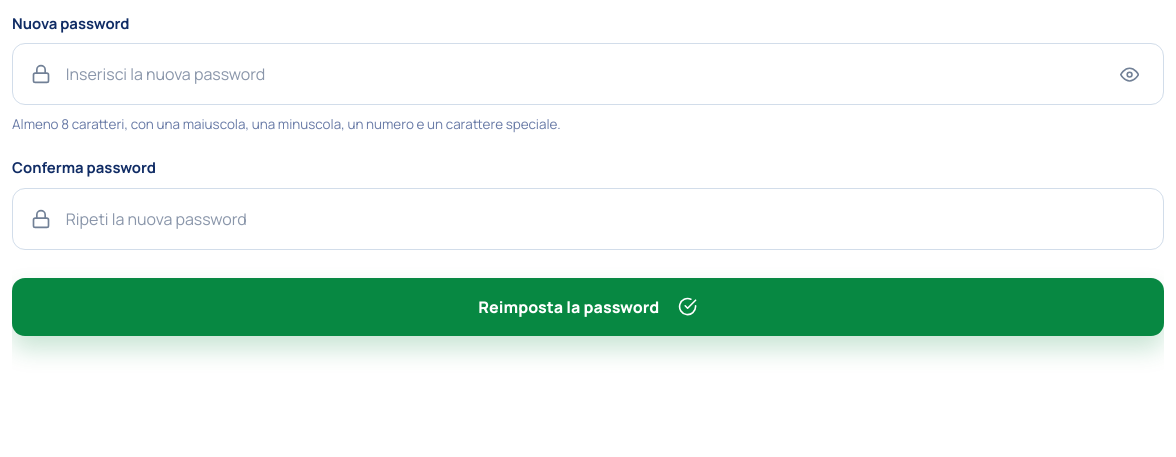
Test: ResetPasswordForm › errori del server › tratta un 400 con validationErrors come password rifiutata
Type "Password1!" into the password field labelled "Nuova password".
click(583, 74); type("Password1!")  # box [66,62,1100,86]
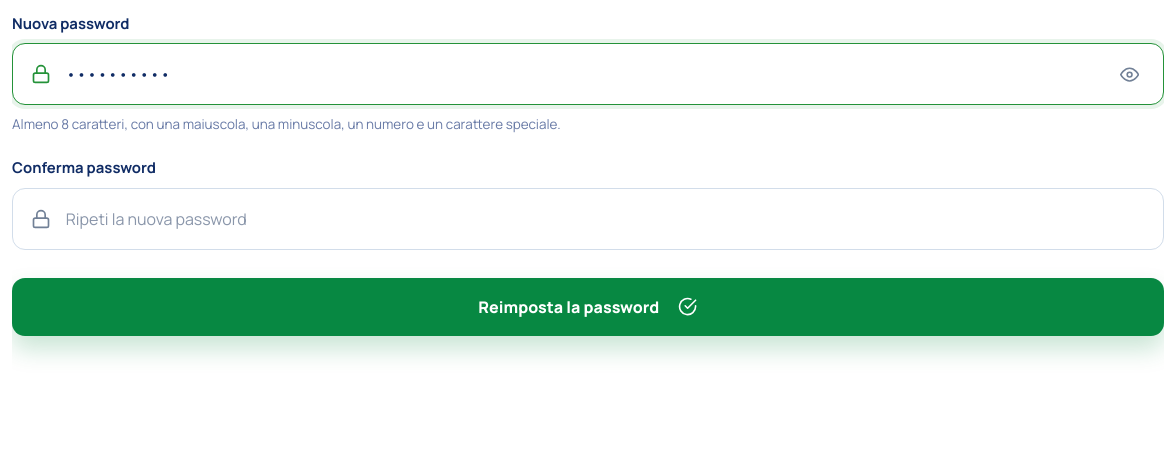
Type "Password1!" into the password field labelled "Conferma password".
click(605, 219); type("Password1!")  # box [66,207,1145,231]
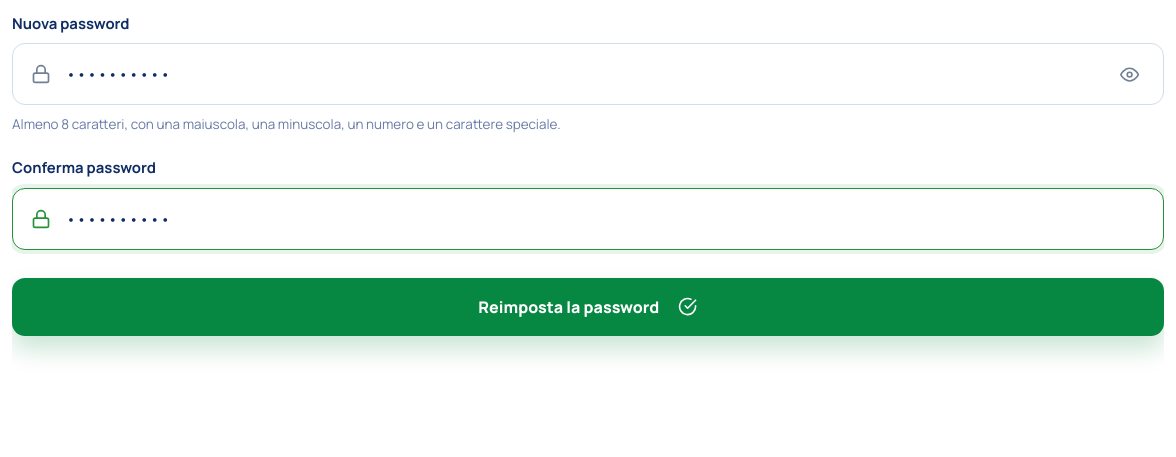
Click the button "Reimposta la password".
click(588, 306)  # box [12,278,1164,336]
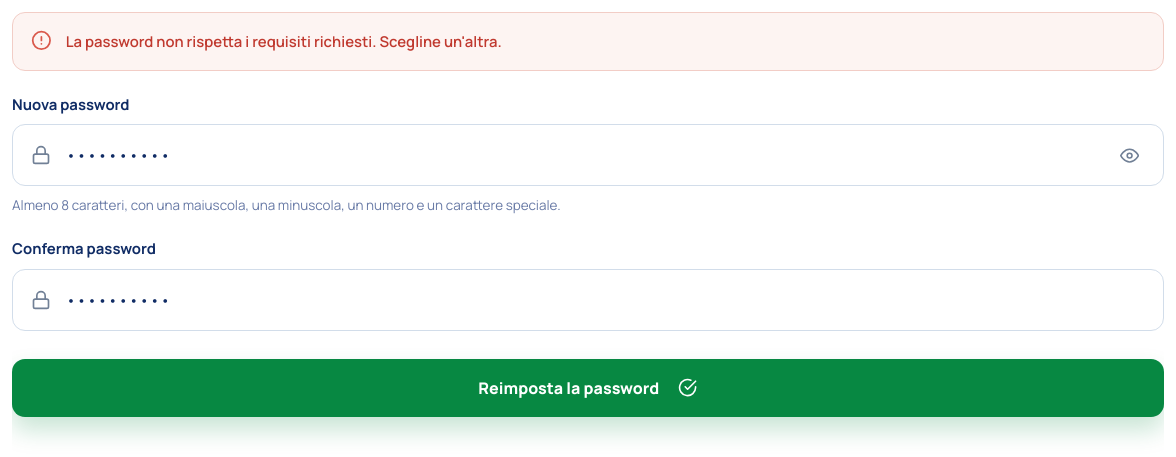
Now the message shows "non rispetta i requisiti richiesti", box [66,31,502,51]
